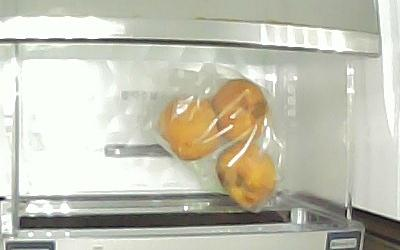peach_vinyl: (217, 143, 279, 213), (161, 95, 220, 162), (213, 79, 271, 146)
